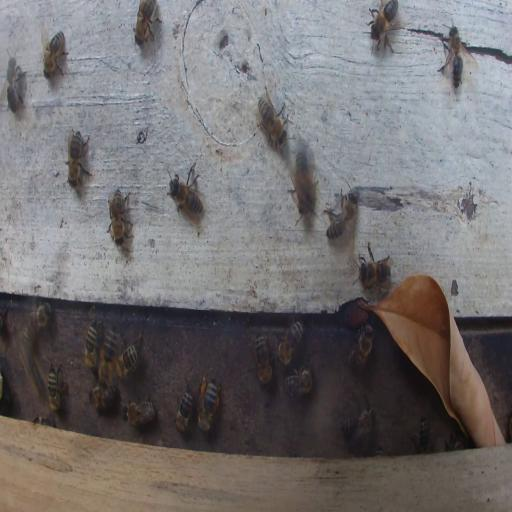nonpollenbee: (256, 84, 288, 158), (323, 183, 360, 242), (166, 165, 203, 221), (366, 0, 400, 57), (438, 21, 466, 89), (354, 244, 393, 289), (66, 129, 93, 191), (106, 187, 134, 245), (293, 147, 317, 211), (41, 25, 68, 78), (4, 51, 26, 112), (342, 402, 375, 442), (114, 334, 141, 382), (133, 0, 160, 48), (346, 324, 374, 370), (276, 320, 303, 367), (174, 378, 194, 434), (283, 364, 314, 400), (123, 398, 156, 428), (254, 331, 272, 385), (410, 416, 433, 454), (47, 364, 63, 414), (29, 302, 54, 333), (90, 384, 116, 412), (84, 322, 98, 372), (445, 430, 472, 449)
pollenbee: (95, 322, 119, 389), (197, 378, 221, 434)
